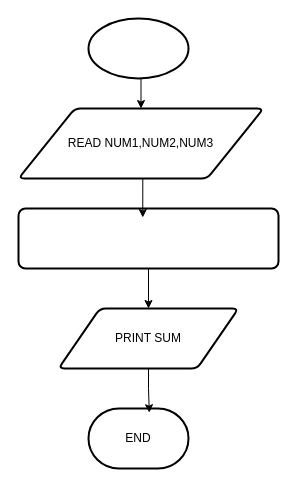
This 296x486 diagram has some shape labels left out. Each missing label, with the box of its shape:
STAR: (87, 17, 189, 79)
SUM = NUM1 + NUM2 + NUM3: (17, 207, 279, 269)
